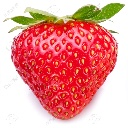strawberry: (9, 3, 120, 120)
